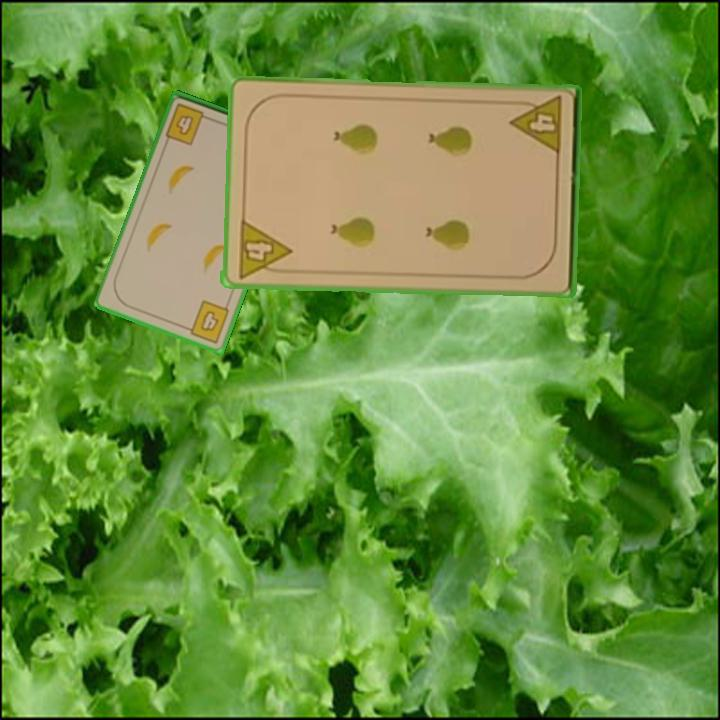4b: (162, 100, 215, 148), (181, 297, 232, 346)
4p: (234, 216, 293, 281), (507, 93, 565, 158)
